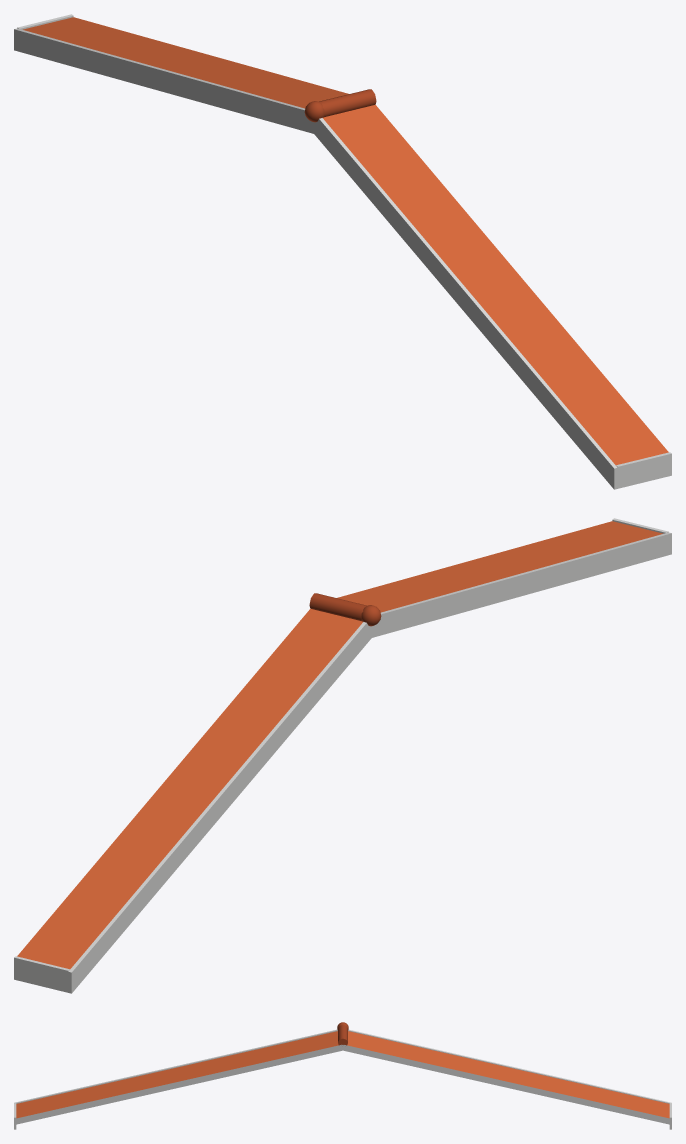
Rendered from telhado_empena_v8_i25.glb.
The picture shows the model from 3 angles, top to bottom: view 1: azimuth 30°, elevation 25°; view 2: azimuth 150°, elevation 25°; view 3: azimuth 270°, elevation 25°; orthographic projection. The views are drawn at different scales.
Visible parts, largest first — view 1: telhado_empena_v8_i25; view 2: telhado_empena_v8_i25; view 3: telhado_empena_v8_i25.
Part boxes in pixels (bbox=[...]): telhado_empena_v8_i25: bbox=[14, 14, 671, 489]; telhado_empena_v8_i25: bbox=[14, 518, 671, 993]; telhado_empena_v8_i25: bbox=[14, 1022, 671, 1129].
Size of the model in its own units: 0.57 by 1.39 by 9.
